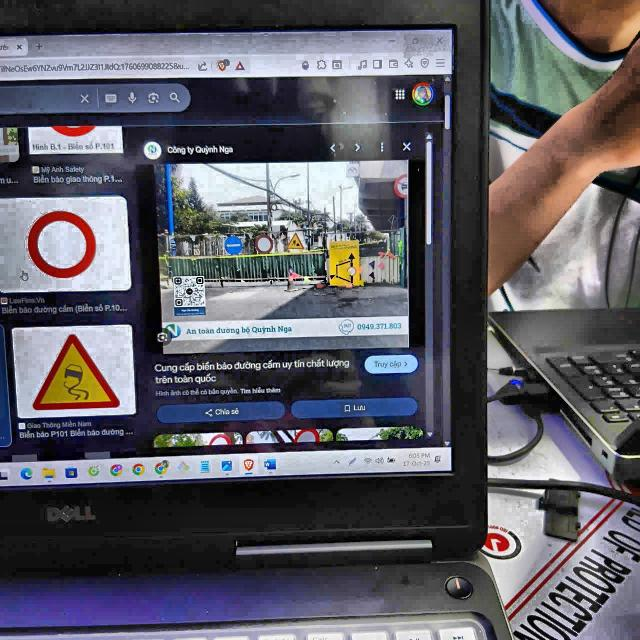Bien_bao_duong_cam: (27, 210, 98, 280), (254, 234, 272, 256)
